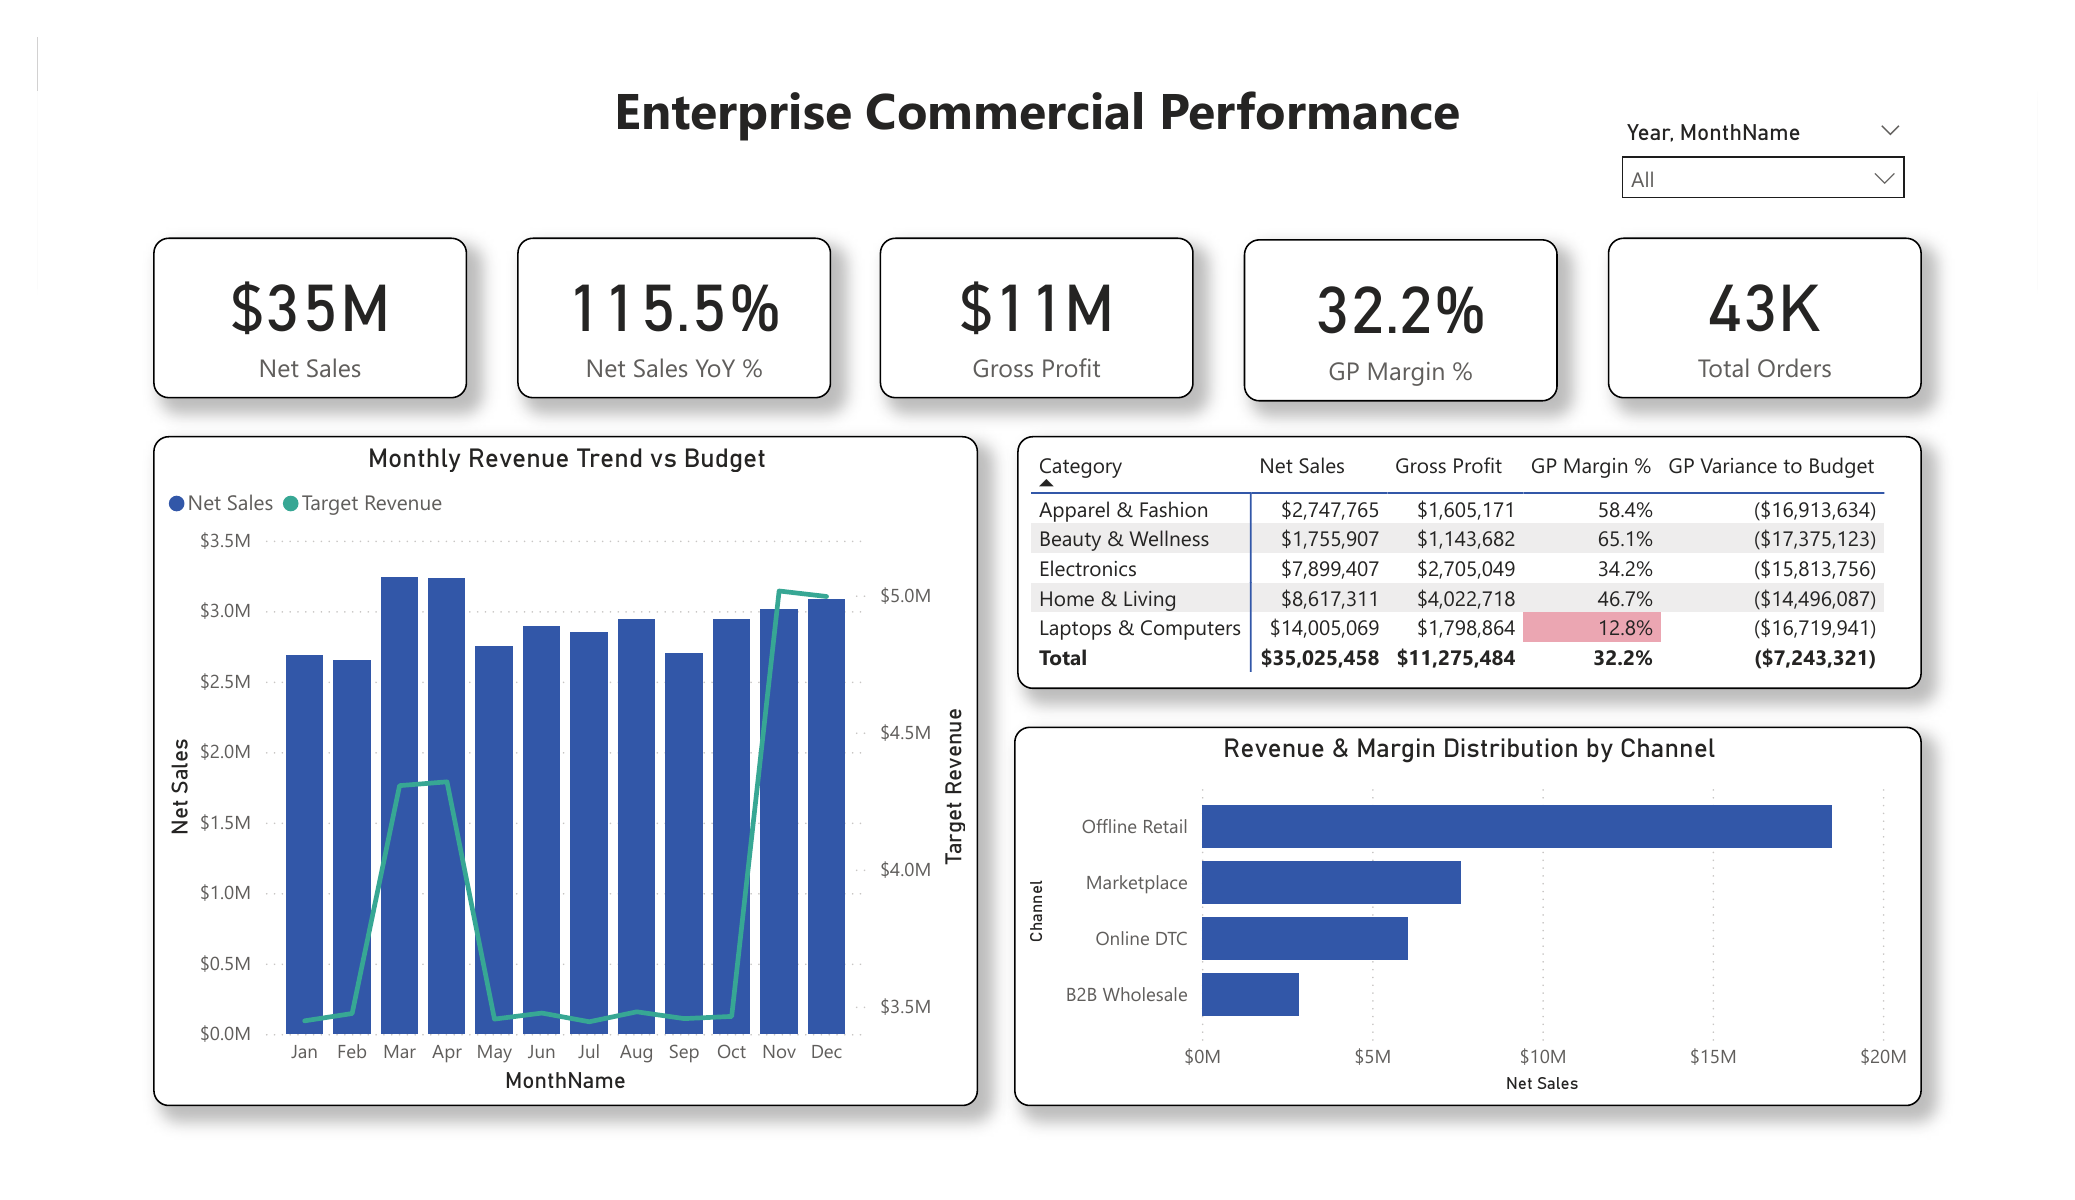

What the dashboard file says about the page in this screenshot:
{"tool":"powerbi","page":{"name":"Executive Summary","canvas":[1280,720],"ordinal":0},"visuals":[{"type":"textbox","box":[312.5,18.8,655,58.7],"z":0},{"type":"slicer","fields":{"Values":["Dim_Date.Year","Dim_Date.MonthName"]},"box":[1003.8,47.5,201.2,61.2],"z":1000},{"type":"group","id":"g1","title":"Group 1","box":[74.1,127.6,1131.7,104.5],"z":2000},{"type":"card","fields":{"Values":["_Measures.Net Sales"]},"box":[74.1,127.6,200.9,103.5],"z":2000,"group":"g1"},{"type":"card","fields":{"Values":["_Measures.Net Sales YoY %"]},"box":[306.8,127.6,200.9,103.5],"z":3000,"group":"g1"},{"type":"lineClusteredColumnComboChart","title":"Monthly Revenue Trend vs Budget","fields":{"Y":["_Measures.Net Sales"],"Y2":["_Measures.Target Revenue"],"Category":["Dim_Date.MonthName"]},"box":[74.1,255.3,527.5,429.1],"z":4000},{"type":"card","fields":{"Values":["_Measures.Gross Profit"]},"box":[539.5,127.6,200.9,103.5],"z":5000,"group":"g1"},{"type":"pivotTable","fields":{"Rows":["Dim_Product.Category"],"Values":["_Measures.Net Sales","_Measures.Gross Profit","_Measures.GP Margin %","_Measures.GP Variance to Budget"]},"box":[627.2,255.3,578.6,161.7],"z":6000},{"type":"card","fields":{"Values":["_Measures.GP Margin %"]},"box":[772.2,128.7,200.9,103.5],"z":7000,"group":"g1"},{"type":"clusteredBarChart","title":"Revenue & Margin Distribution by Channel","fields":{"Category":["Dim_Store_Region.Channel"],"Y":["_Measures.Net Sales"]},"box":[624.8,441.2,581,243.1],"z":8000},{"type":"card","fields":{"Values":["_Measures.Total Orders"]},"box":[1004.9,127.6,200.9,103.5],"z":9000,"group":"g1"}]}

Visuals, with their boxes on the page's 1280x720 design canvas (x1, y1, x2, y2). These are canvas units, not pixel positions in the 2075x1200 screenshot, which may show the page scaled, cropped or inside an application window:
textbox: region(312, 19, 968, 78)
slicer - Dim_Date.Year x Dim_Date.MonthName: region(1004, 48, 1205, 109)
"Group 1" group: region(74, 128, 1206, 232)
card - _Measures.Net Sales: region(74, 128, 275, 231)
card - _Measures.Net Sales YoY %: region(307, 128, 508, 231)
"Monthly Revenue Trend vs Budget" lineClusteredColumnComboChart: region(74, 255, 602, 684)
card - _Measures.Gross Profit: region(540, 128, 740, 231)
pivotTable - Dim_Product.Category x _Measures.Net Sales: region(627, 255, 1206, 417)
card - _Measures.GP Margin %: region(772, 129, 973, 232)
"Revenue & Margin Distribution by Channel" clusteredBarChart: region(625, 441, 1206, 684)
card - _Measures.Total Orders: region(1005, 128, 1206, 231)
